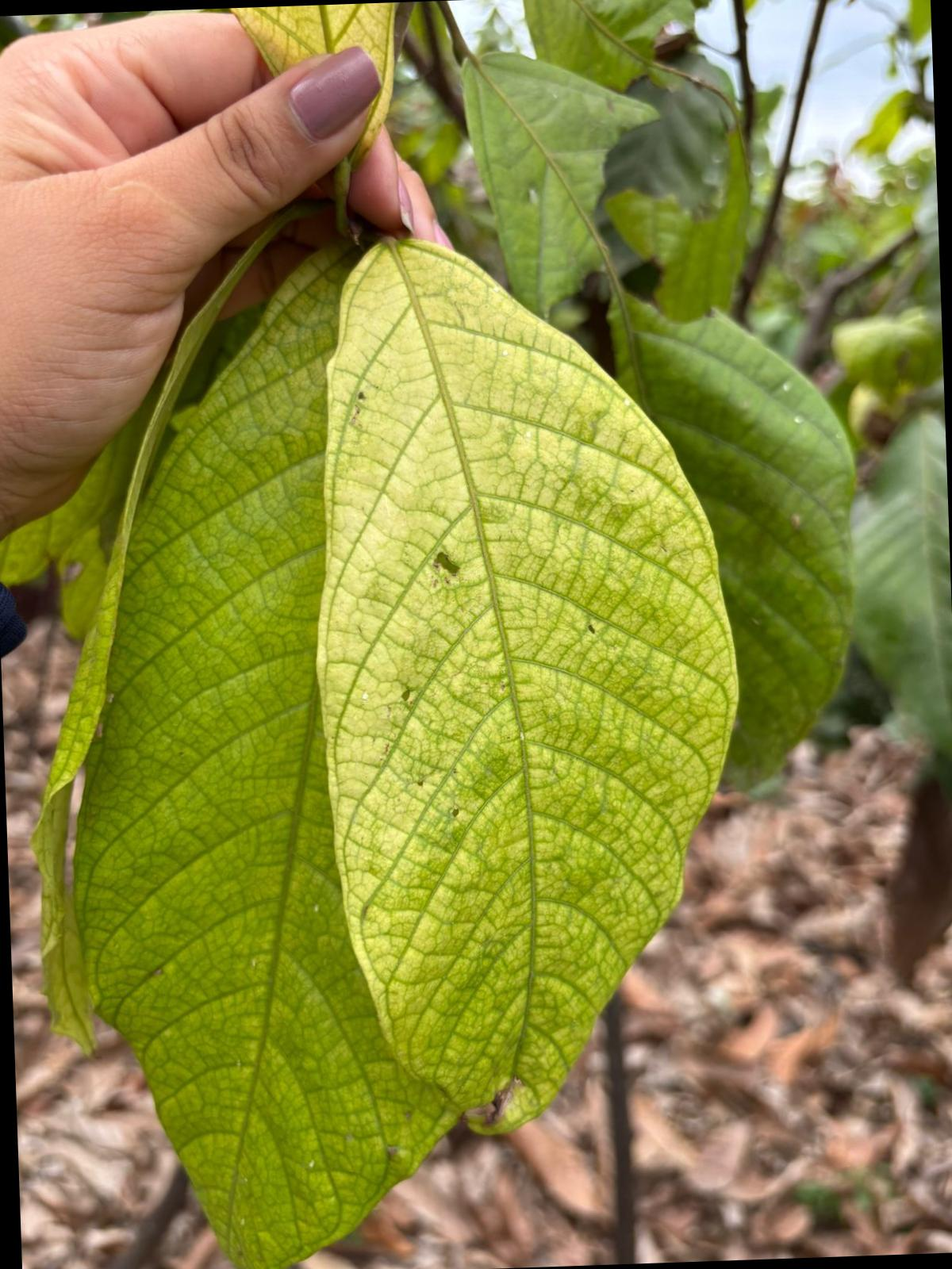Nitrogeno: (73, 251, 455, 1269), (318, 241, 736, 1129)
